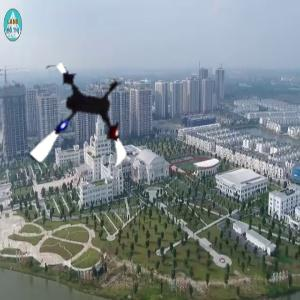drone: (16, 58, 144, 186)
